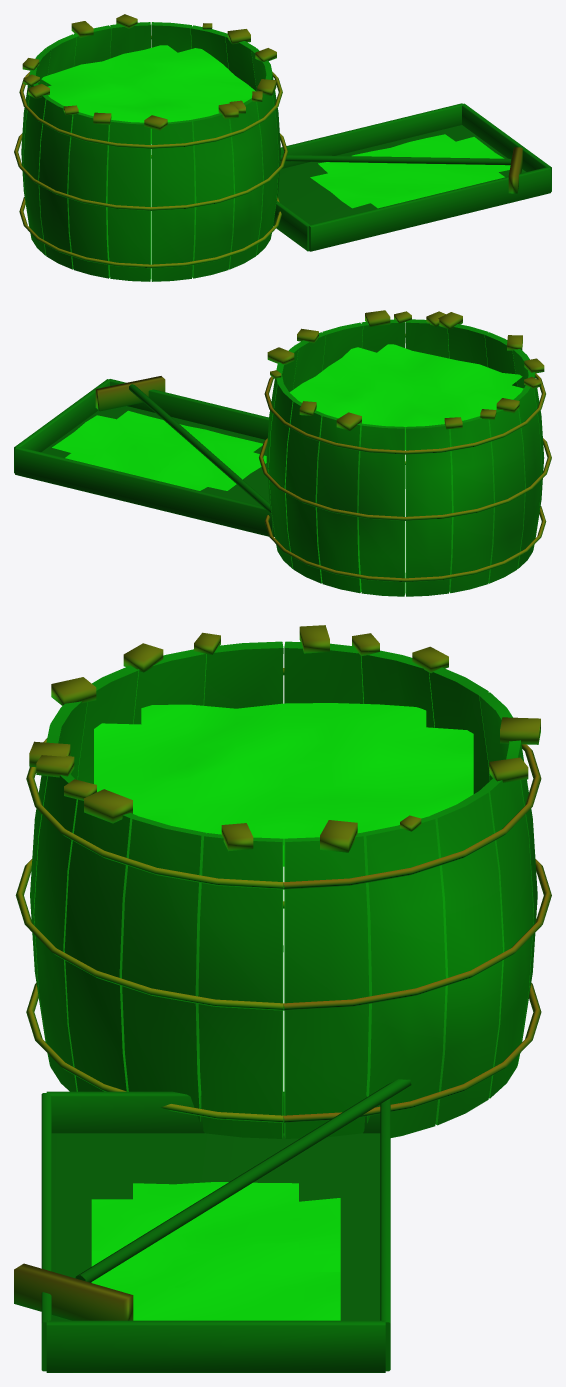
The model's file is brine_vat.glb.
3 views of the same model, one above another, from view 1: azimuth 30°, elevation 25°; view 2: azimuth 150°, elevation 25°; view 3: azimuth 270°, elevation 25° (orthographic). The views are drawn at different scales.
Parts seen in each view (by area): view 1: brine_vat; view 2: brine_vat; view 3: brine_vat.
Part boxes in pixels (left/top/right/bottom): brine_vat: left=14, top=14, right=551, bottom=281; brine_vat: left=14, top=310, right=551, bottom=596; brine_vat: left=14, top=625, right=551, bottom=1372.
Size of what is drawn, in the model's own units: 3.06 by 1.03 by 1.59.
